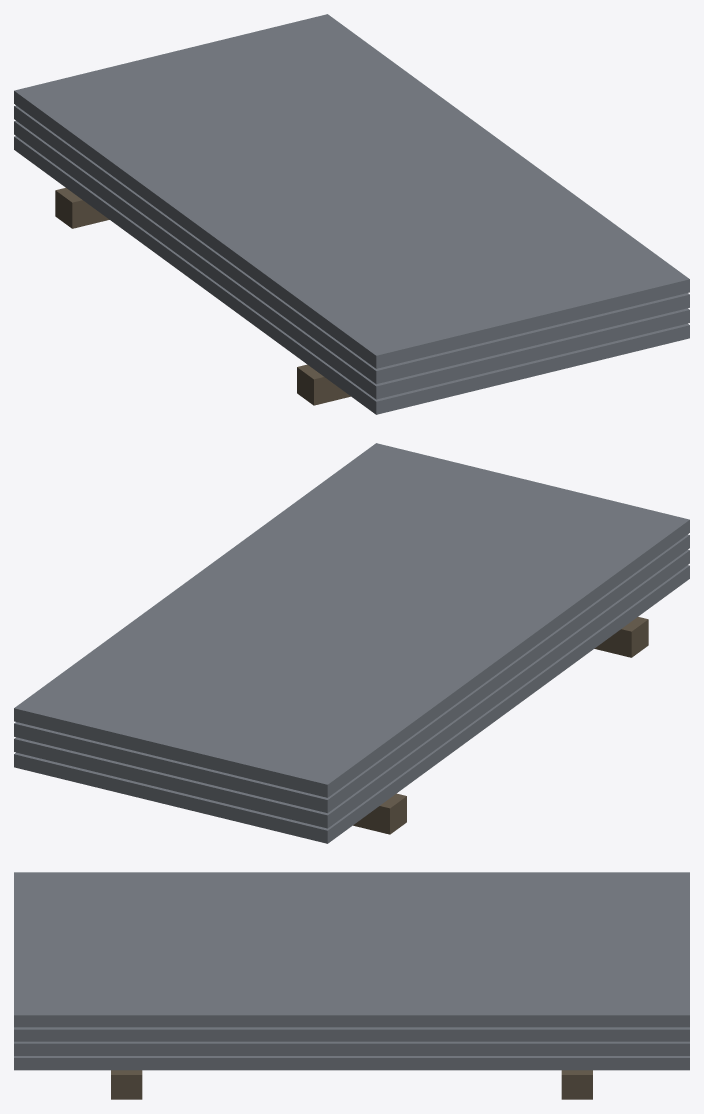
File: scatter7.fbx
The picture shows the model from 3 angles, top to bottom: view 1: azimuth 30°, elevation 25°; view 2: azimuth 150°, elevation 25°; view 3: azimuth 270°, elevation 25°; orthographic projection. The views are drawn at different scales.
Parts seen in each view (by area): view 1: a1037/0/scatter7; view 2: a1037/0/scatter7; view 3: a1037/0/scatter7.
Boxes of the visible parts, x1,y1,x2,y2 form: a1037/0/scatter7: (14, 14, 689, 414); a1037/0/scatter7: (14, 443, 689, 843); a1037/0/scatter7: (14, 872, 689, 1099).
Bounding box in the file's own units: 1.6 × 0.39 × 3.
